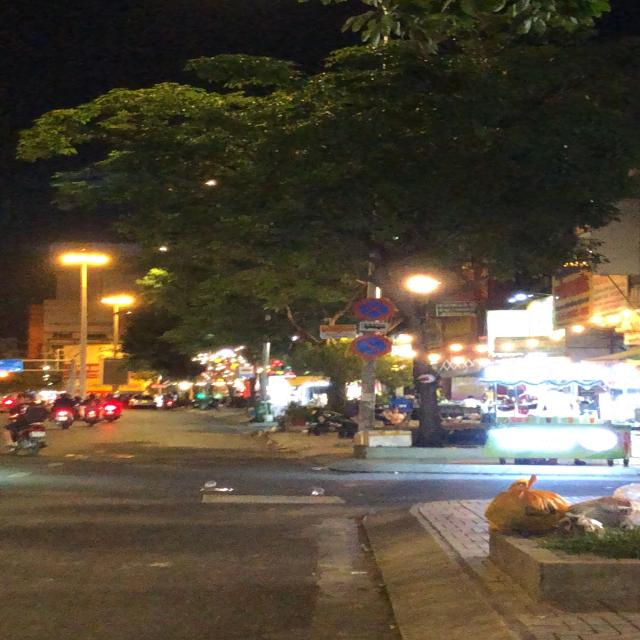Bien bao cam do xe: (350, 333, 393, 359)
Bien bao cam dung xe va do xe: (350, 296, 396, 321)
